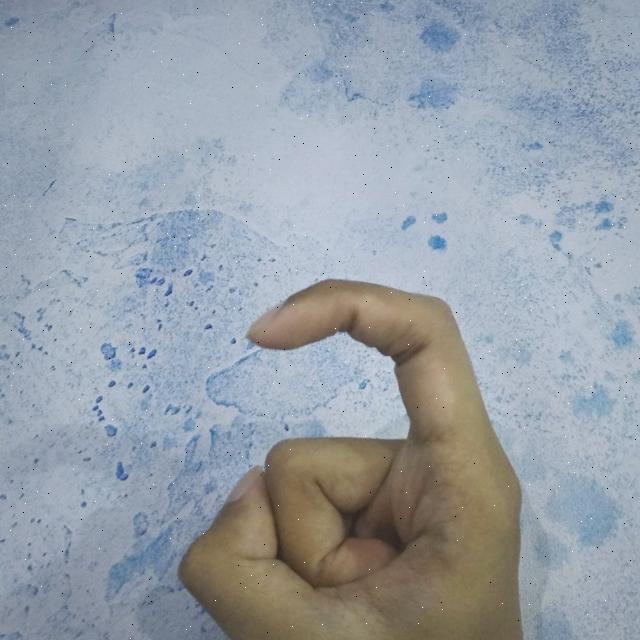X: (159, 263, 535, 640)
